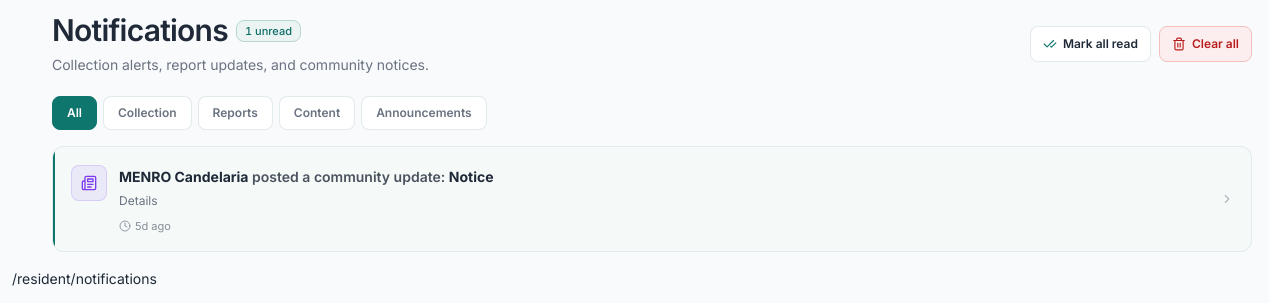
Scenario: opens NEW_POST destination without waiting for its read receipt
Click the button with class "resident-notification-row" at (89,183), box [53,147,1251,251]
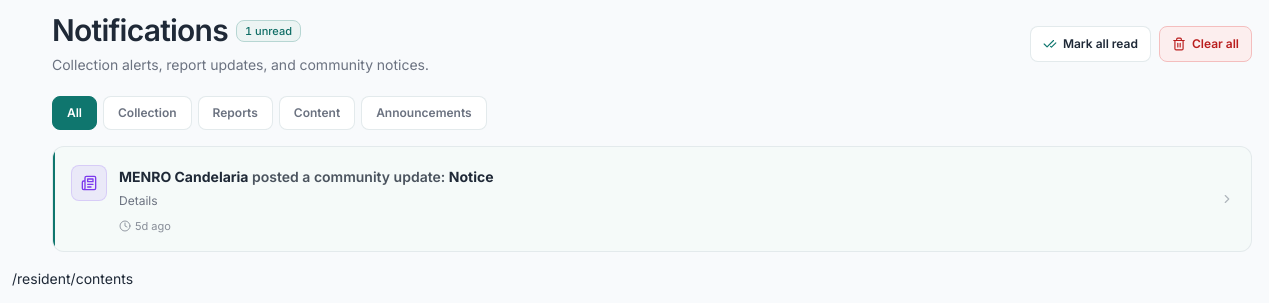
Expected: the text with test id "location" reads "/resident/contents", [12,270,133,286]
